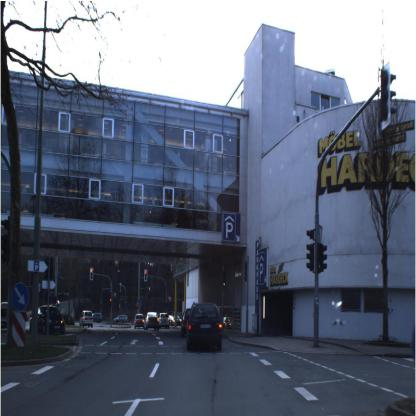mandatory: (7, 277, 31, 313)
